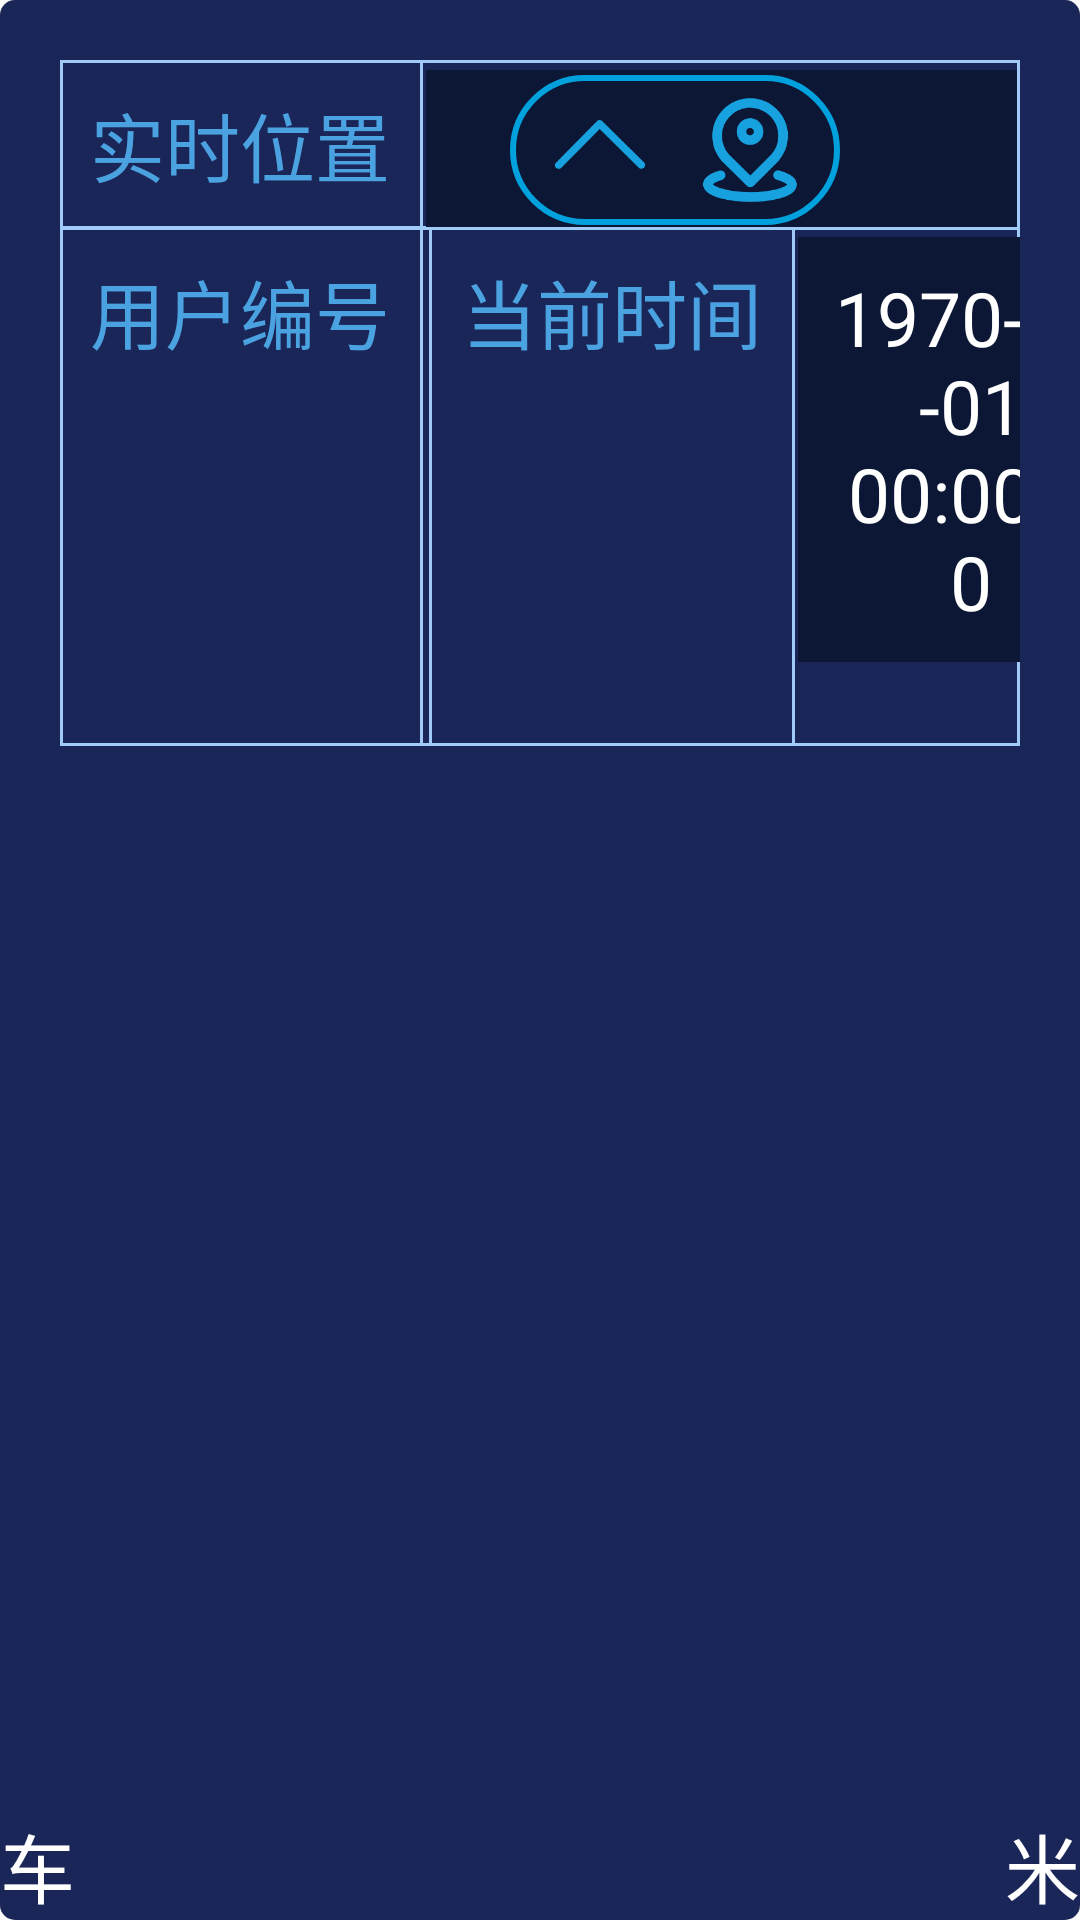

Where to tap for icons on this 1080x1920 app screen, as (x=x, y=y):
location: (x=750, y=150)
upward: (x=600, y=144)
